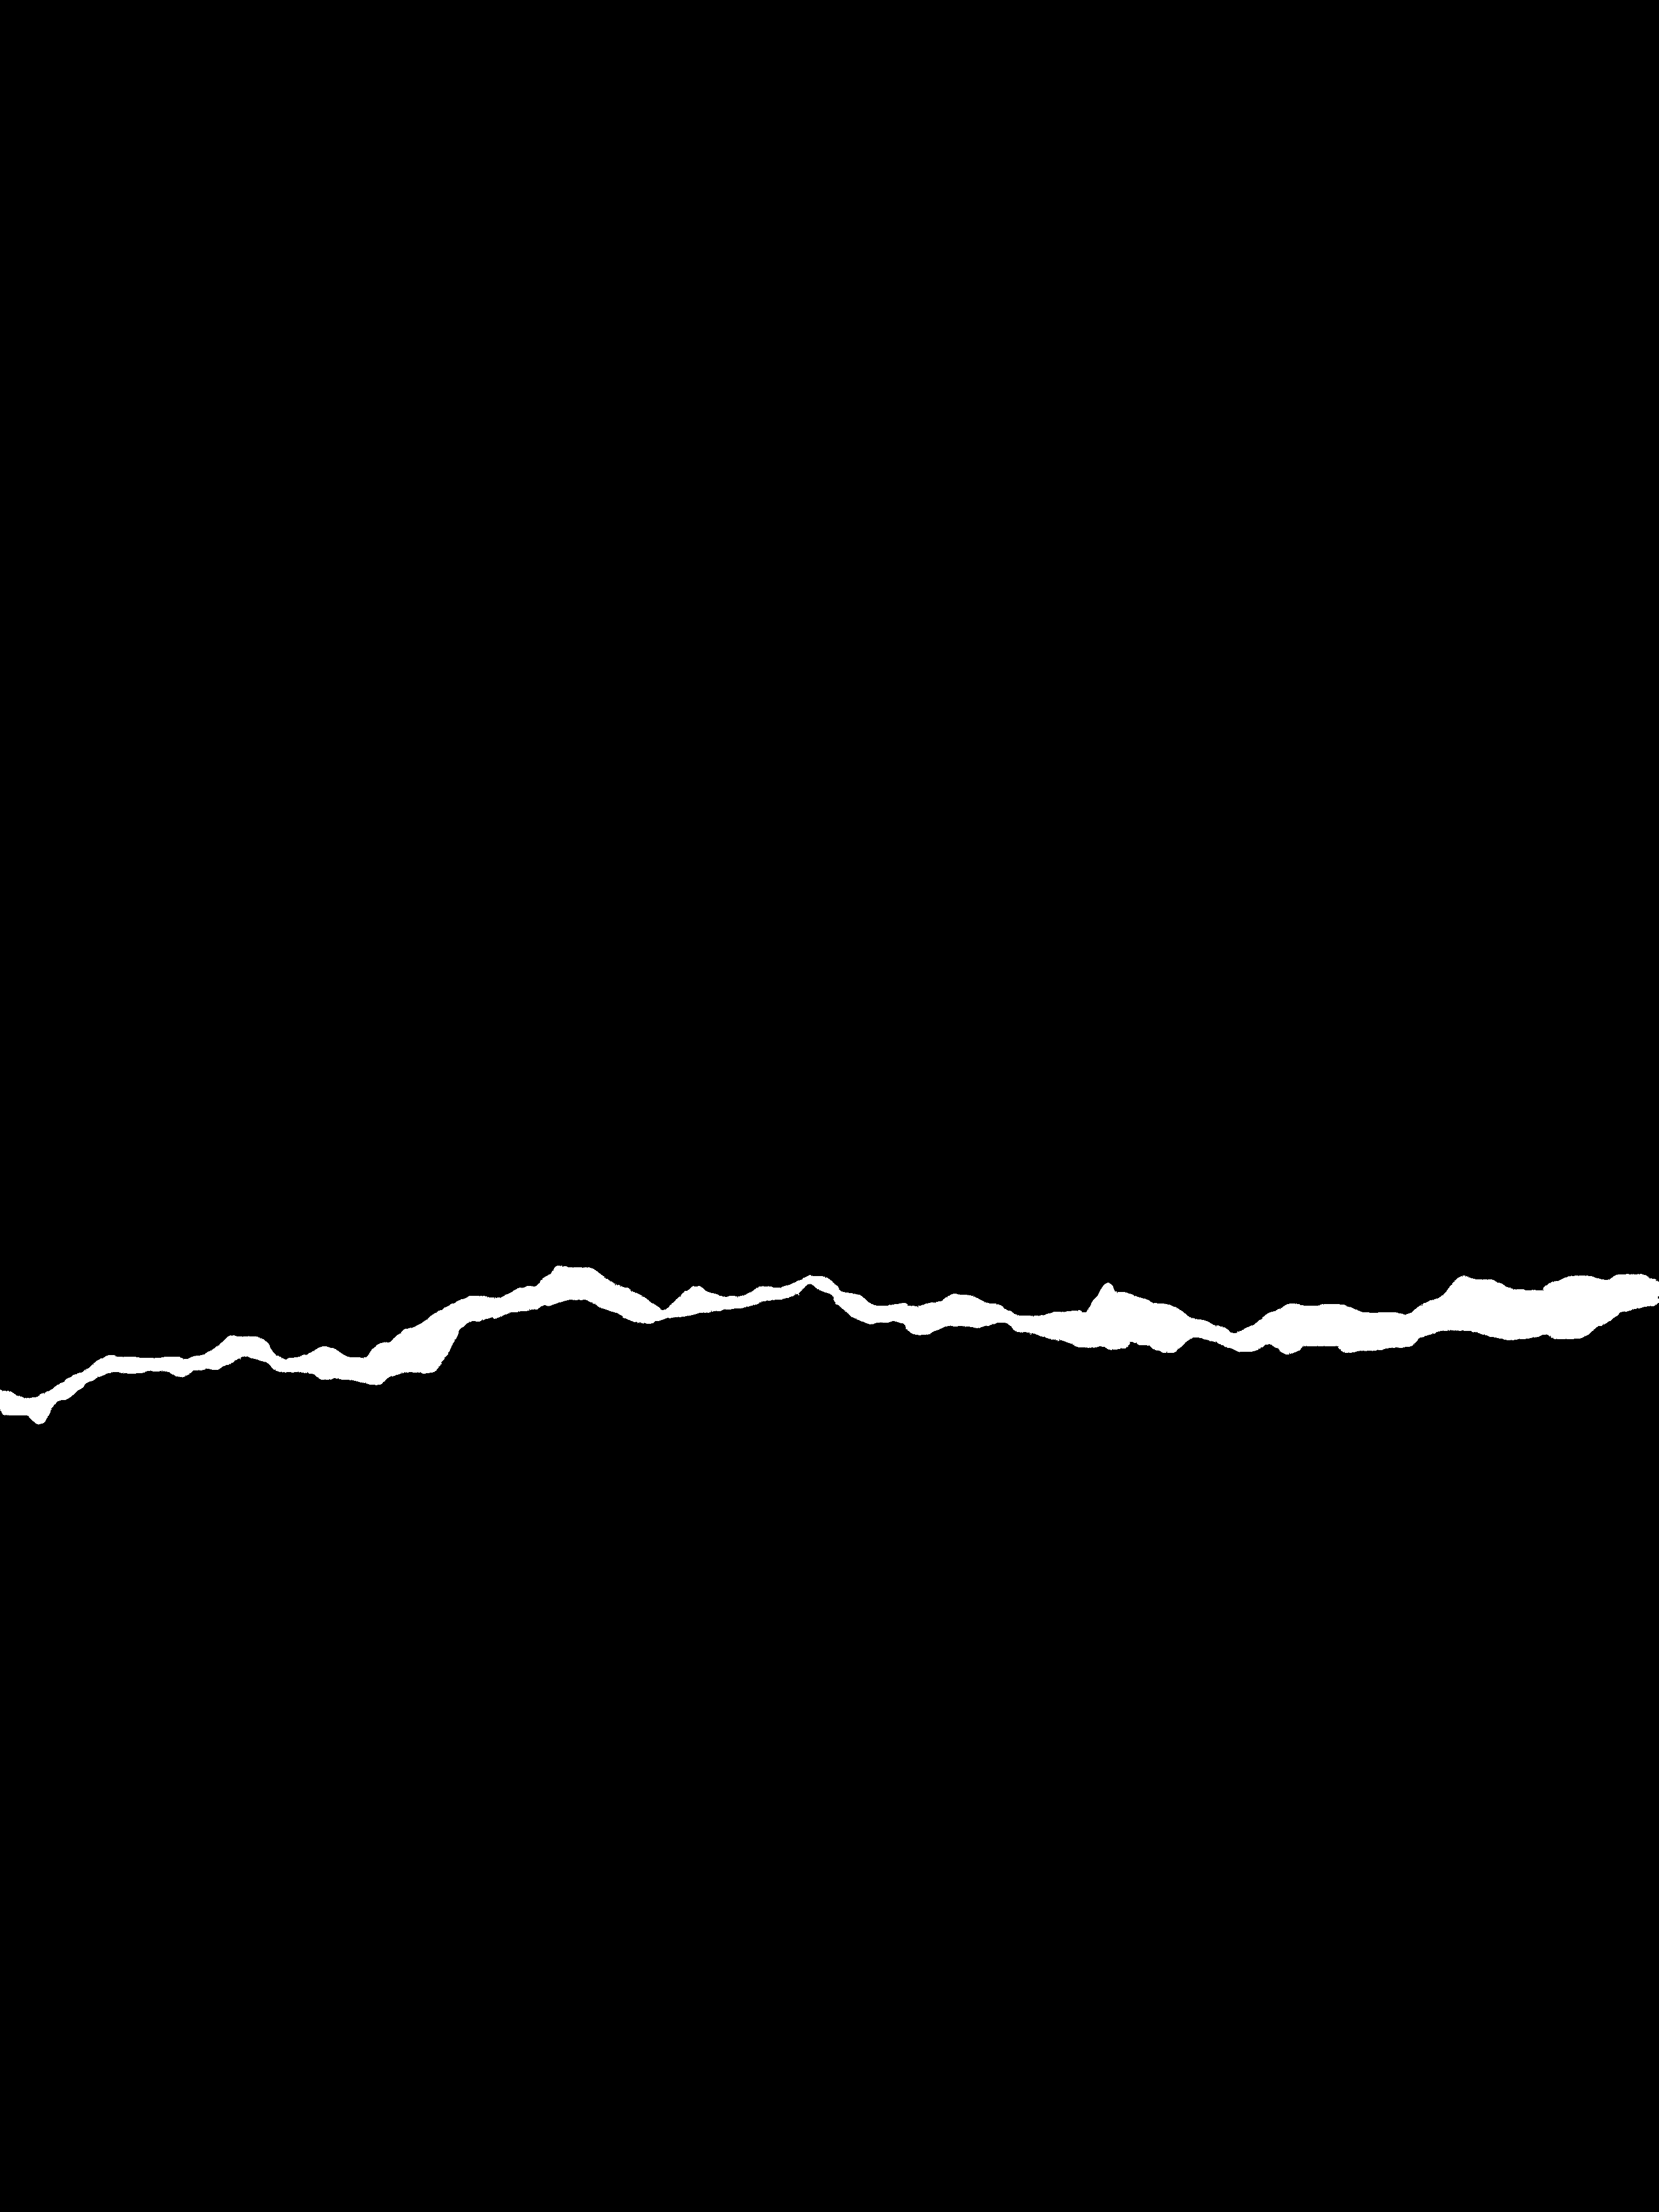Crack: (0, 1214, 1659, 1442)
